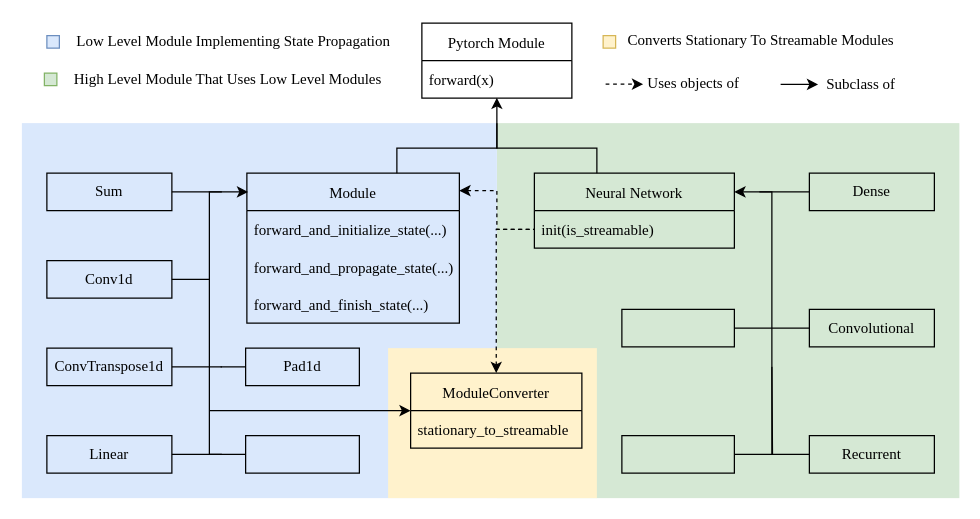
Image size: 980x519. Some labels were removed from this diagram. Here are the shapes that lost their labels. From the top down, the centre of each, then its label:
point 677,327: VocGan
point 301,453: GRU
point 677,453: Attention
